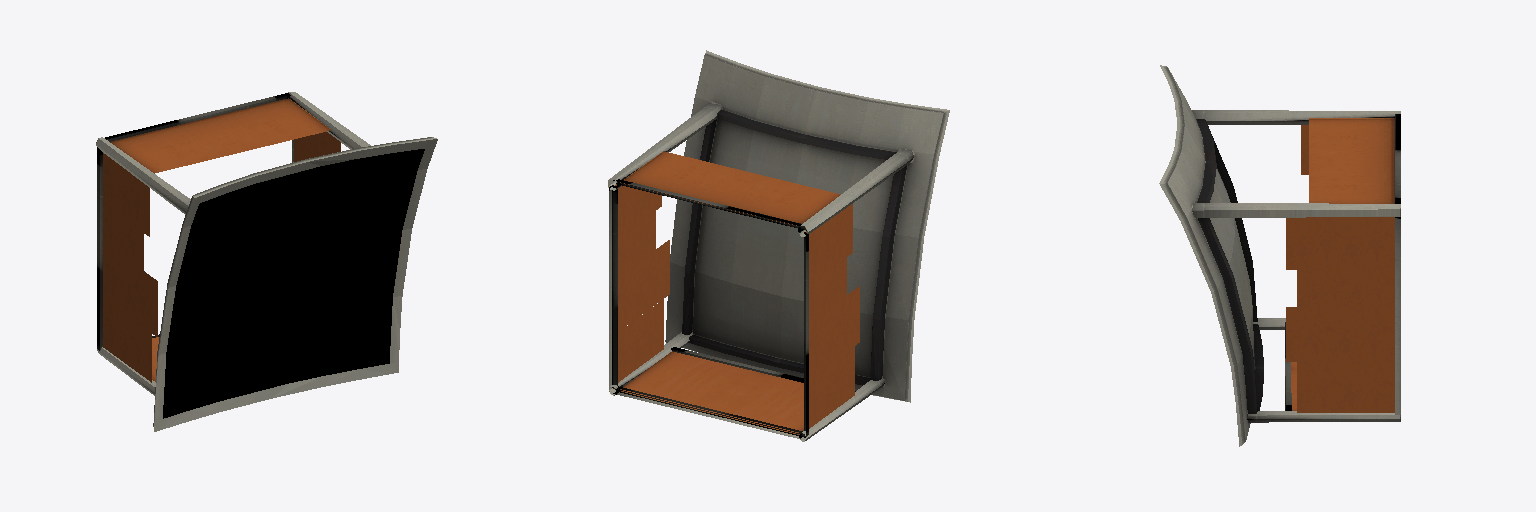
3 views of the same model, side by side, from view 1: azimuth 30°, elevation 25°; view 2: azimuth 150°, elevation 25°; view 3: azimuth 270°, elevation 25° (orthographic).
Visible parts, largest first — view 1: metal_corrugated_wide_bars, mtl_nt_hydro_shed, nt_2020_wall_sm_orange_ext; view 2: mtl_nt_hydro_shed, nt_2020_wall_sm_orange_ext; view 3: mtl_nt_hydro_shed, nt_2020_wall_sm_orange_ext.
Part boxes in pixels (x1,y1,x2,y2): metal_corrugated_wide_bars: (163, 149, 424, 418); mtl_nt_hydro_shed: (96, 92, 437, 431); nt_2020_wall_sm_orange_ext: (103, 132, 340, 382); mtl_nt_hydro_shed: (608, 50, 949, 441); nt_2020_wall_sm_orange_ext: (615, 184, 859, 428); mtl_nt_hydro_shed: (1159, 65, 1400, 446); nt_2020_wall_sm_orange_ext: (1286, 125, 1394, 412).
Size of the model in its own units: 515 by 529 by 440.
3 materials, 2 textured.